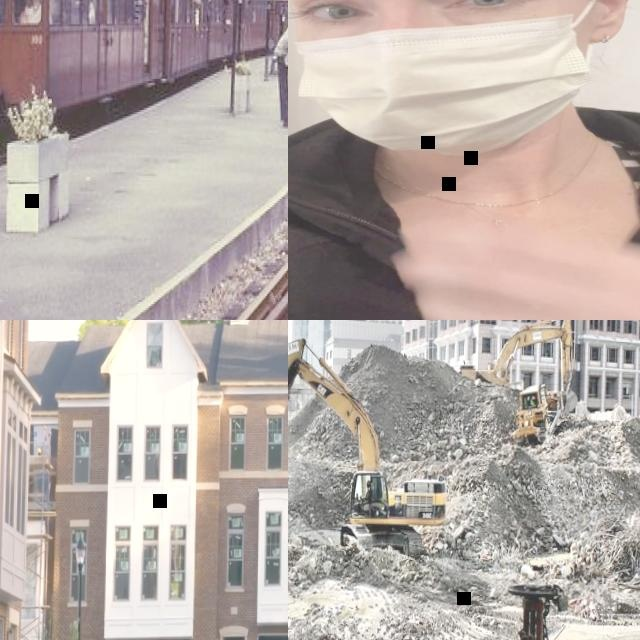Mask: (300, 25, 592, 155)
NO-Hardhat: (368, 481, 372, 487)
NO-Safety Vest: (288, 169, 640, 320), (279, 21, 288, 60), (24, 4, 41, 24)
Person: (288, 0, 640, 320), (273, 19, 288, 130), (18, 0, 42, 25), (362, 480, 373, 502), (529, 397, 536, 409)
Safety Vest: (530, 401, 537, 409)
machinery: (288, 334, 450, 565), (459, 320, 580, 420), (512, 385, 562, 447)
